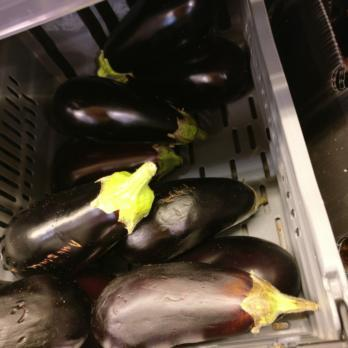Brinjal: (96, 252, 318, 348), (0, 155, 154, 271), (97, 0, 255, 104), (49, 72, 207, 156), (0, 272, 100, 348)
